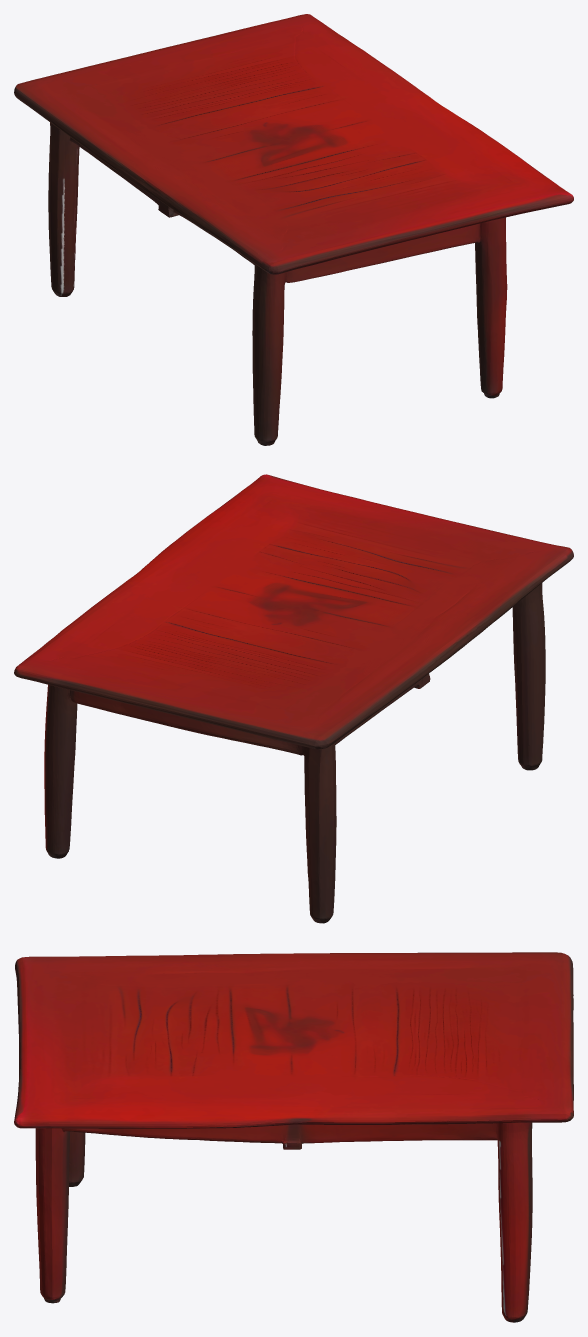
The picture shows the model from 3 angles, top to bottom: view 1: azimuth 30°, elevation 25°; view 2: azimuth 150°, elevation 25°; view 3: azimuth 270°, elevation 25°; orthographic projection. The views are drawn at different scales.
Parts seen in each view (by area): view 1: table.obj; view 2: table.obj; view 3: table.obj.
Boxes of the visible parts, <box> form: table.obj: <box>14,14,573,445</box>; table.obj: <box>14,474,573,923</box>; table.obj: <box>14,952,573,1322</box>.
Size of the model in its own units: 1.23 by 0.7502 by 1.74.
1 material, 1 textured.
